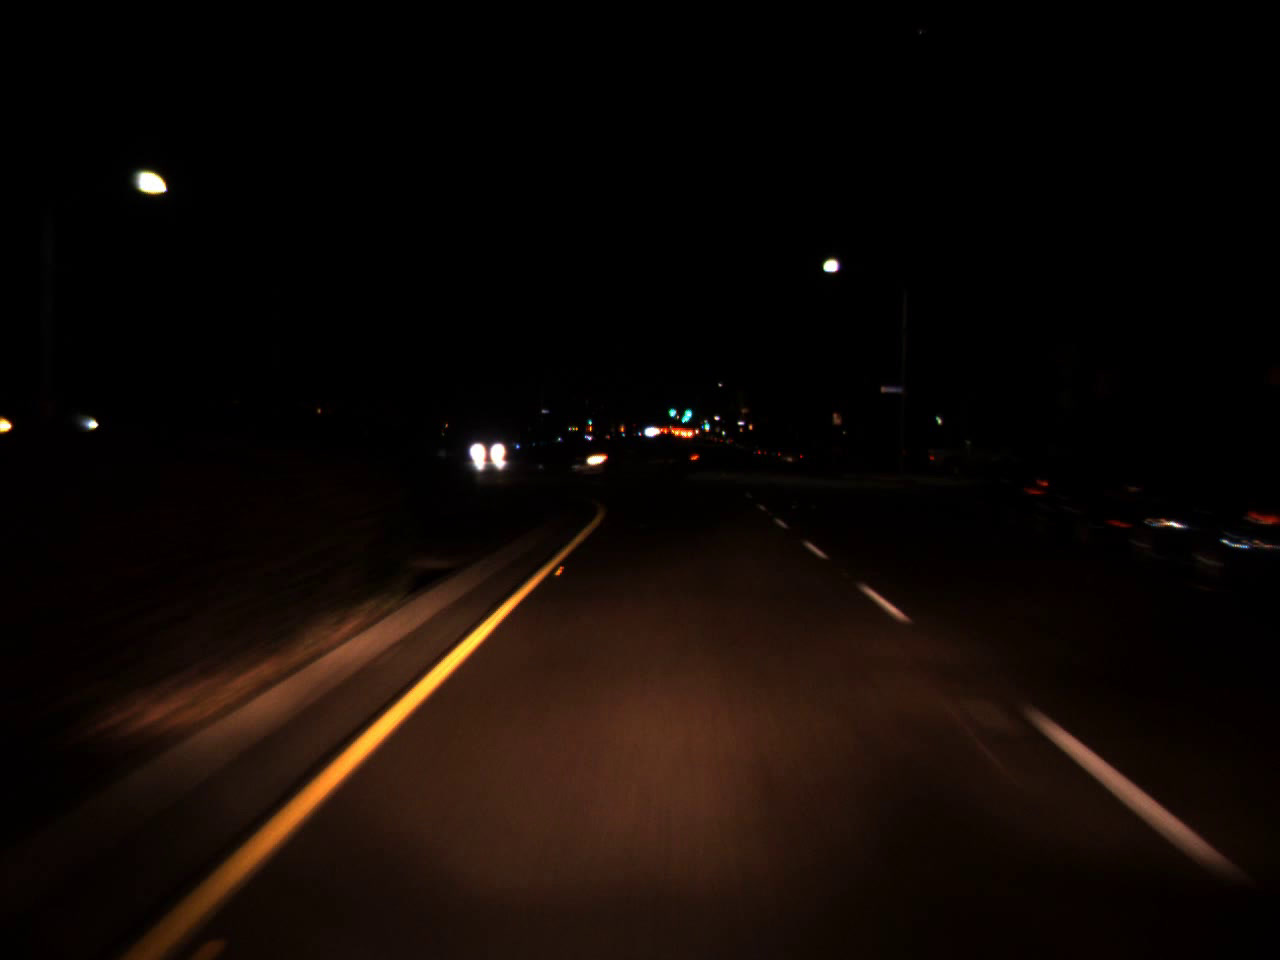go: (677, 396, 693, 423), (667, 401, 677, 419), (702, 413, 709, 431), (586, 411, 593, 426)
